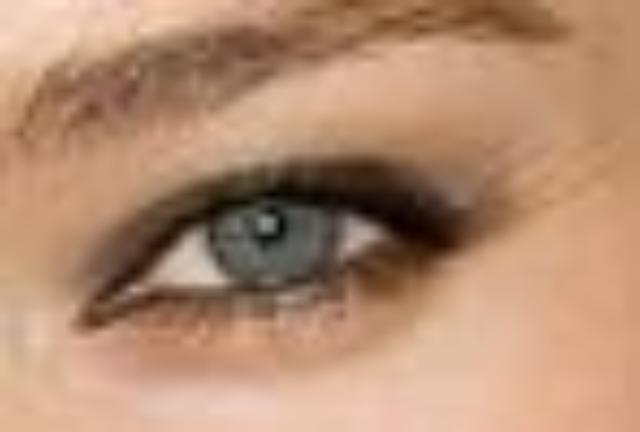eye: (205, 187, 345, 293)
